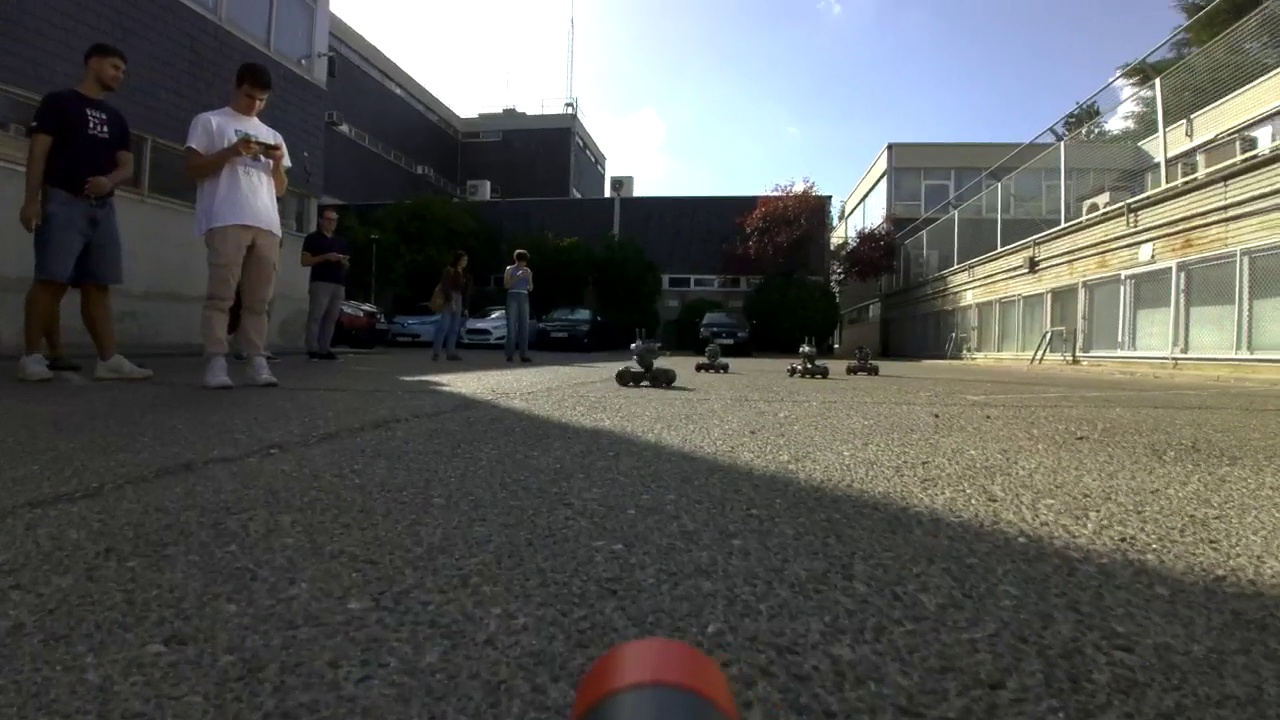robot: (616, 324, 677, 392), (789, 332, 831, 379), (696, 334, 727, 373), (845, 345, 880, 377)
